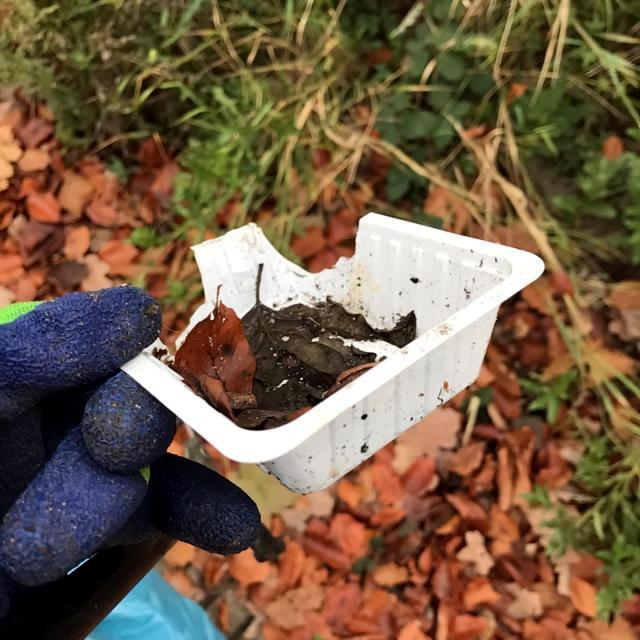Plastic: (113, 204, 547, 496)
